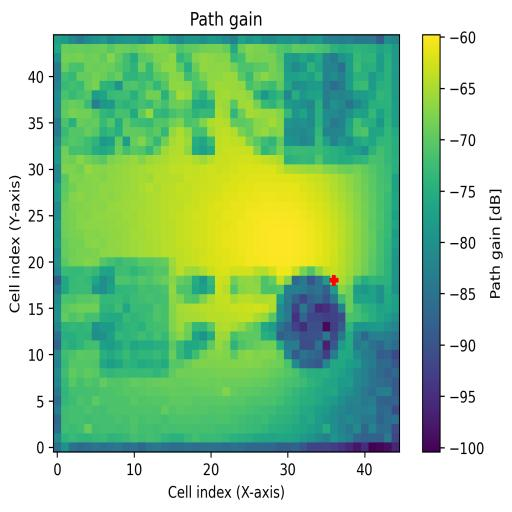Concrete: (284, 55, 369, 163)
Glass: (92, 55, 176, 154)
Metal: (276, 266, 347, 369)
Wood: (100, 256, 170, 376)
